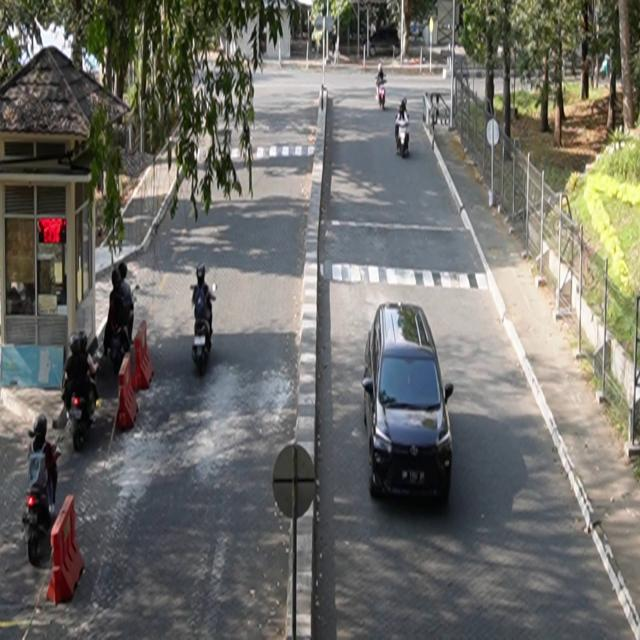car: (363, 301, 455, 506)
